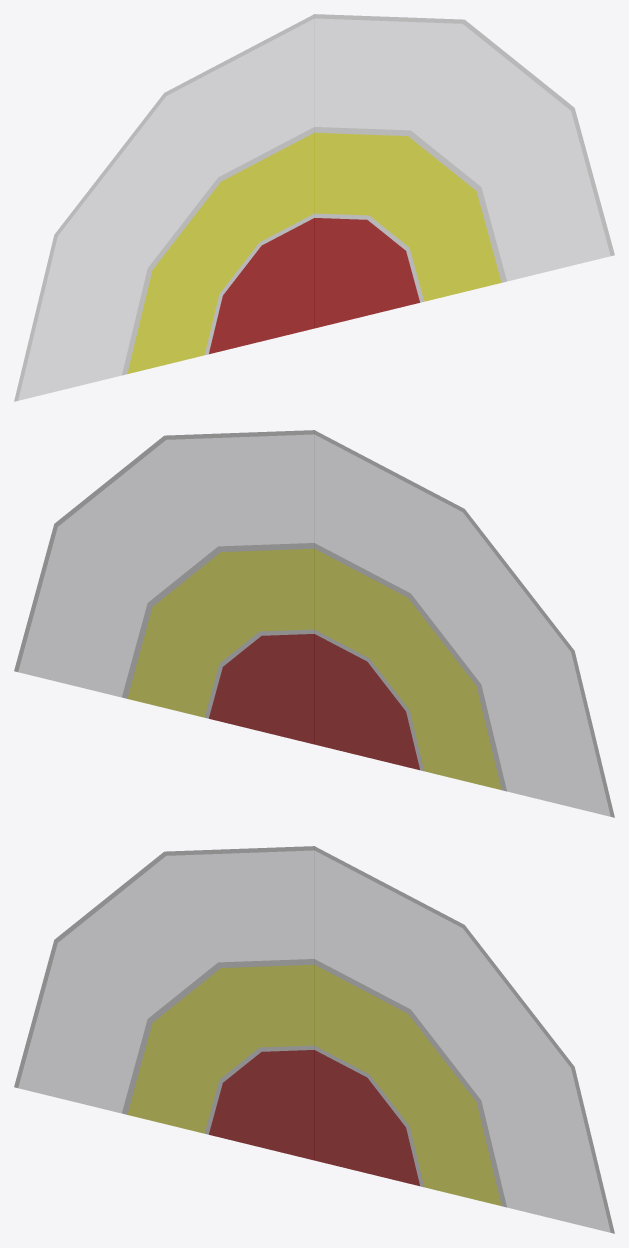
Rendered from Zielscheibe 1.fbx.
3 renders of one model, top to bottom at view 1: azimuth 30°, elevation 25°; view 2: azimuth 150°, elevation 25°; view 3: azimuth 330°, elevation 25°, orthographic.
Visible parts, largest first — view 1: Ring; view 2: Ring; view 3: Ring.
Part boxes in pixels (box(x1,y1,x2,y2)): Ring: box(14, 14, 614, 401); Ring: box(14, 430, 614, 817); Ring: box(14, 846, 614, 1233).
Size of the model in its own units: 4.49 by 2.24 by 3.05e-07.
